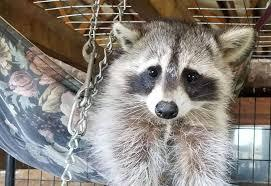raccoon: (74, 9, 271, 186)
